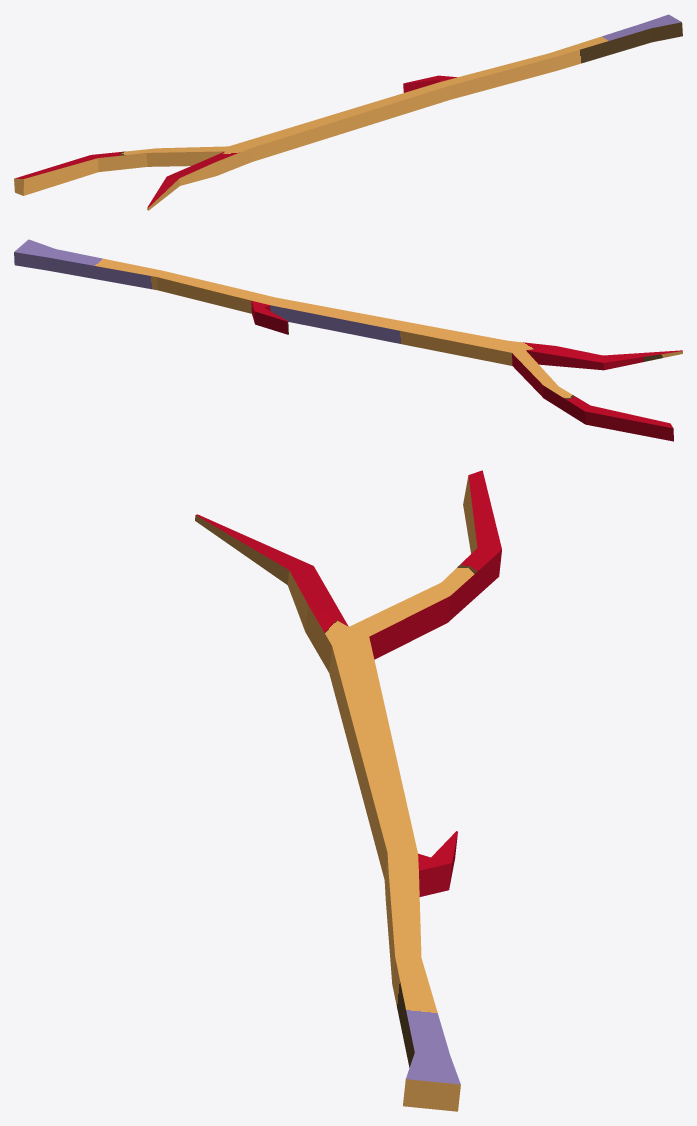
The model's file is stick.obj.
3 views of the same model, one above another, from view 1: azimuth 30°, elevation 25°; view 2: azimuth 150°, elevation 25°; view 3: azimuth 270°, elevation 25° (orthographic). The views are drawn at different scales.
Parts seen in each view (by area): view 1: Cube_Cube.001; view 2: Cube_Cube.001; view 3: Cube_Cube.001.
Boxes of the visible parts, left/top/right/bottom form: Cube_Cube.001: left=14, top=14, right=682, bottom=210; Cube_Cube.001: left=14, top=239, right=682, bottom=441; Cube_Cube.001: left=195, top=470, right=501, bottom=1111.
Size of the model in its own units: 33.08 by 1.32 by 6.78.
Materials: 1 (1 with a texture image).
